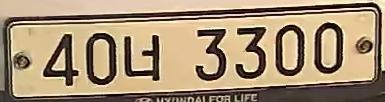0: (270, 22, 310, 78), (310, 20, 349, 75), (82, 31, 119, 88)
3: (190, 23, 231, 83), (233, 22, 269, 81)
4: (38, 29, 83, 90)
너: (119, 30, 168, 83)
